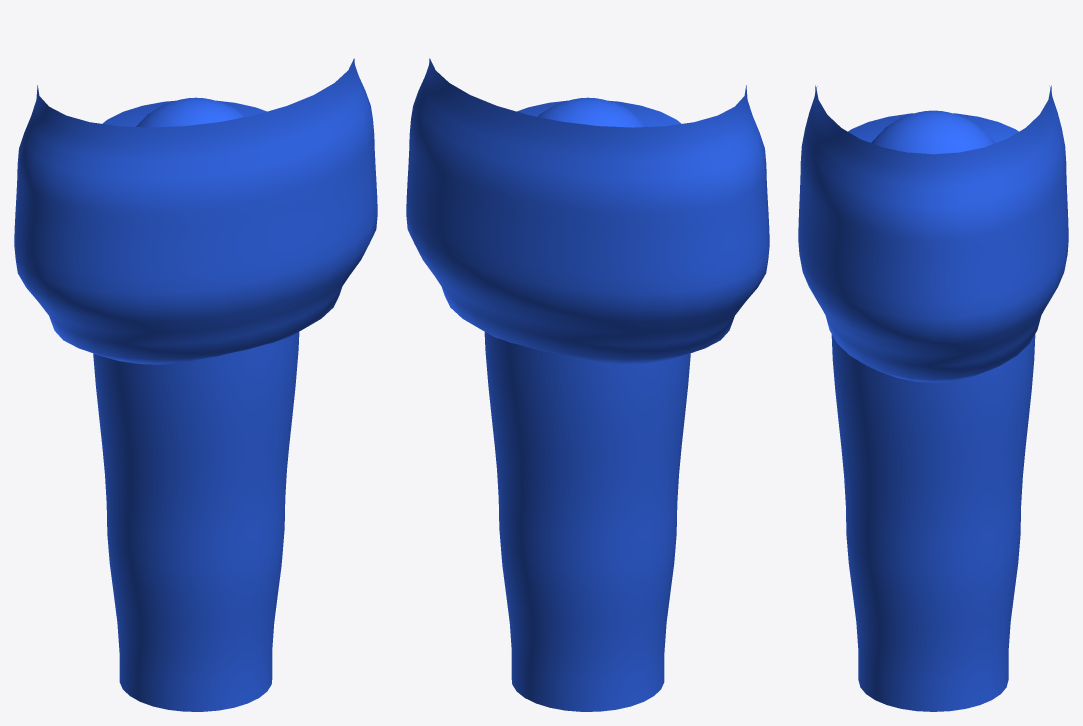
Rendered from bottom_tights_male.glb.
3 renders of one model, left to right at view 1: azimuth 30°, elevation 25°; view 2: azimuth 150°, elevation 25°; view 3: azimuth 270°, elevation 25°, orthographic. The views are drawn at different scales.
Visible parts, largest first — view 1: pants, pant_leg, tight_knee; view 2: pants, pant_leg, tight_knee; view 3: pant_leg, pants, tight_knee.
Boxes of the visible parts, box(x1,y1,x2,y2) form: pants: box(14, 58, 377, 364); pant_leg: box(93, 100, 299, 711); tight_knee: box(136, 97, 245, 127); pants: box(406, 58, 769, 364); pant_leg: box(484, 100, 690, 711); tight_knee: box(538, 97, 647, 127); pant_leg: box(831, 113, 1035, 711); pants: box(798, 85, 1068, 382); tight_knee: box(871, 110, 995, 154).
Size of the model in its own units: 0.3099 by 0.535 by 0.22.
